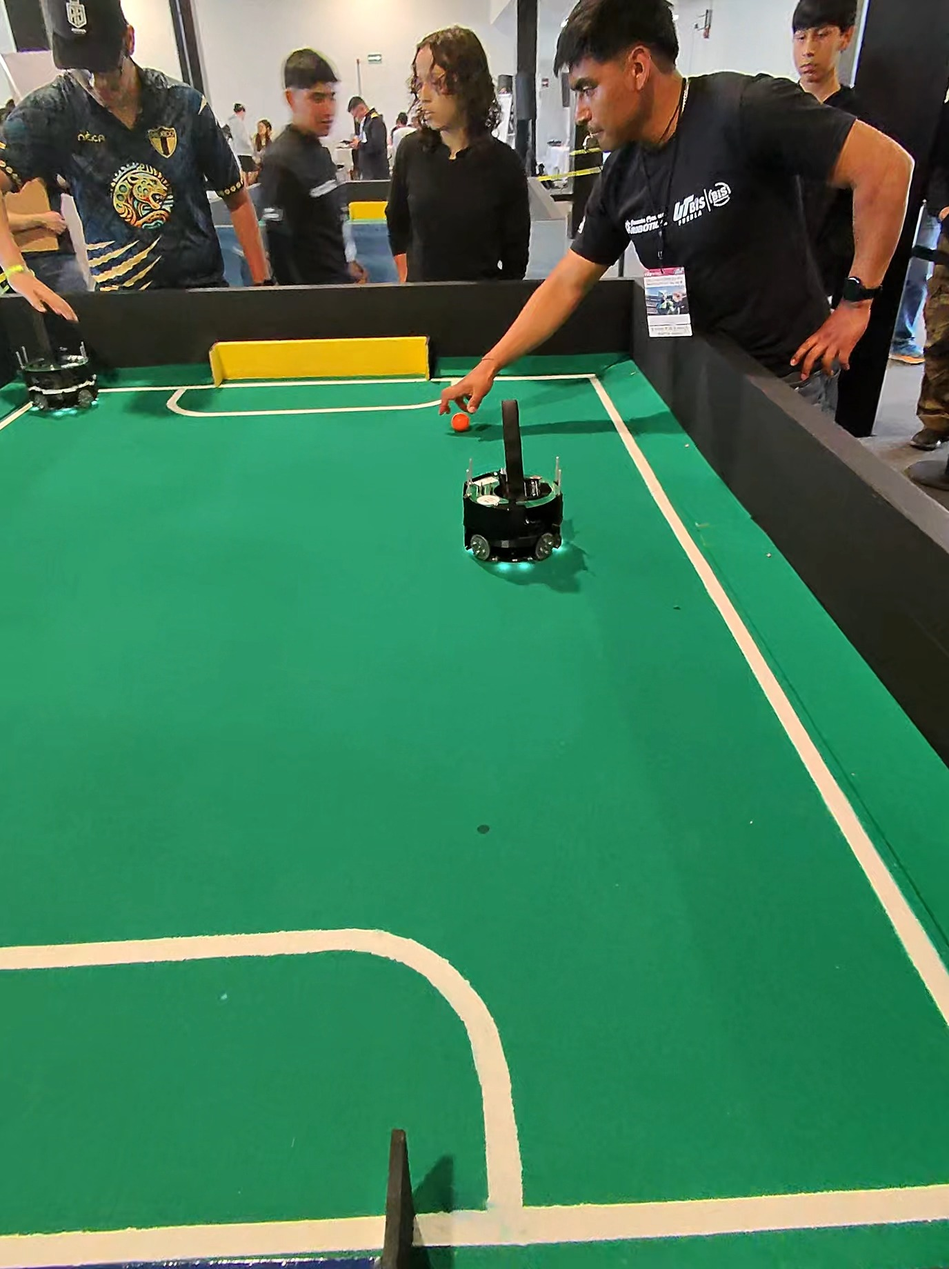Robot: (443, 403, 595, 576), (0, 306, 140, 451)
pelota: (432, 400, 480, 445)
